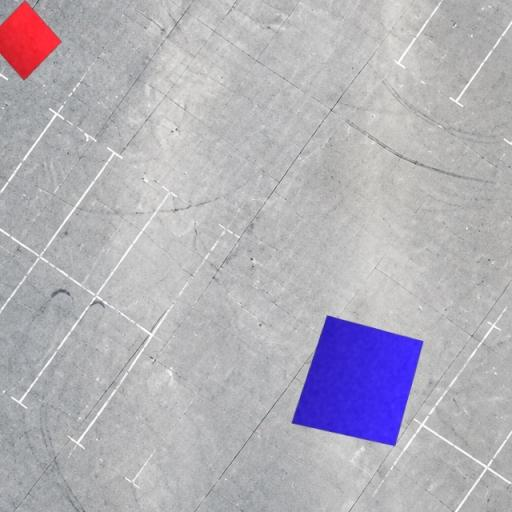BLUE_SQUARE: (290, 314, 424, 446)
RED_SQUARE: (0, 0, 62, 81)
